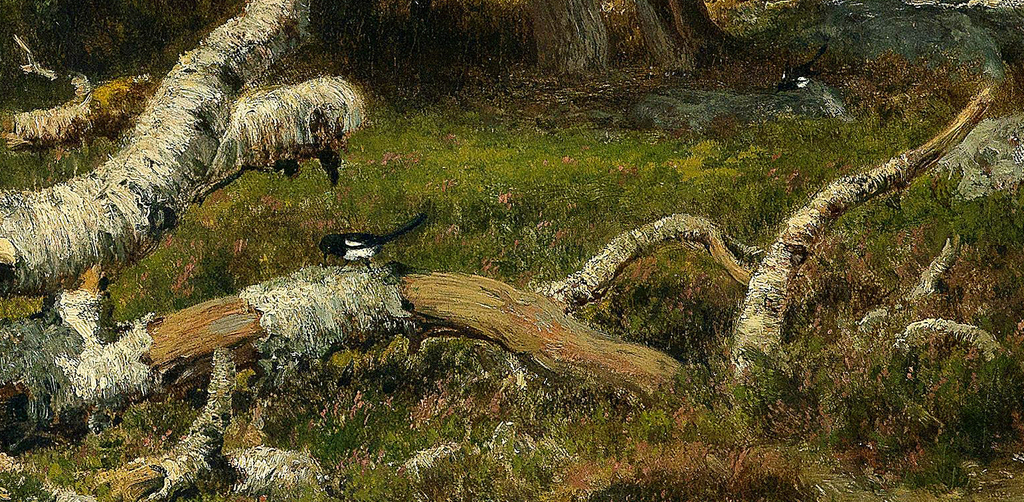Animal: (0, 0, 370, 412)
